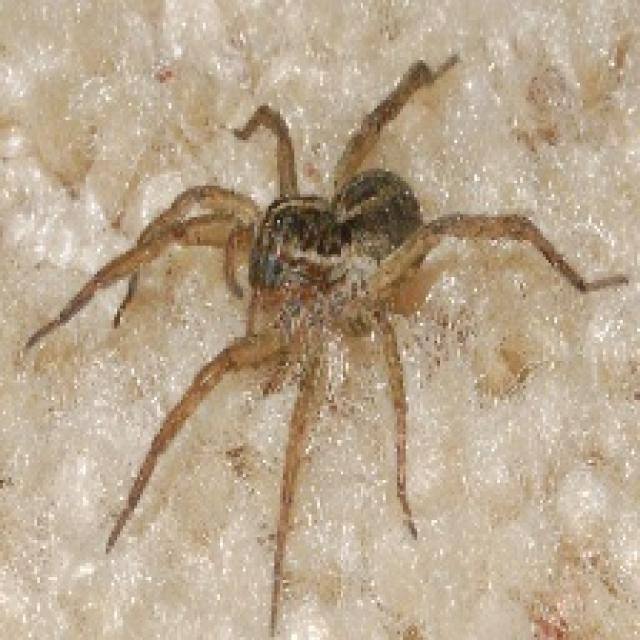Non venomous spider: (121, 102, 557, 449)
